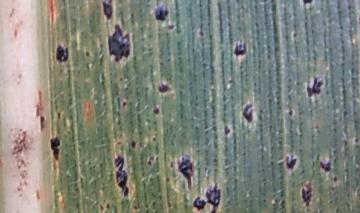tarspot: (105, 23, 134, 66), (110, 153, 131, 199), (177, 152, 195, 191), (305, 74, 325, 101), (299, 180, 314, 212), (46, 134, 62, 162), (52, 42, 71, 65), (240, 100, 255, 126), (152, 4, 171, 23), (283, 152, 300, 173), (100, 1, 116, 23), (232, 39, 247, 58), (316, 159, 334, 173), (156, 81, 171, 97), (128, 138, 139, 152), (221, 122, 232, 136), (120, 99, 129, 111), (151, 106, 161, 116), (287, 107, 295, 119), (301, 1, 314, 8)
